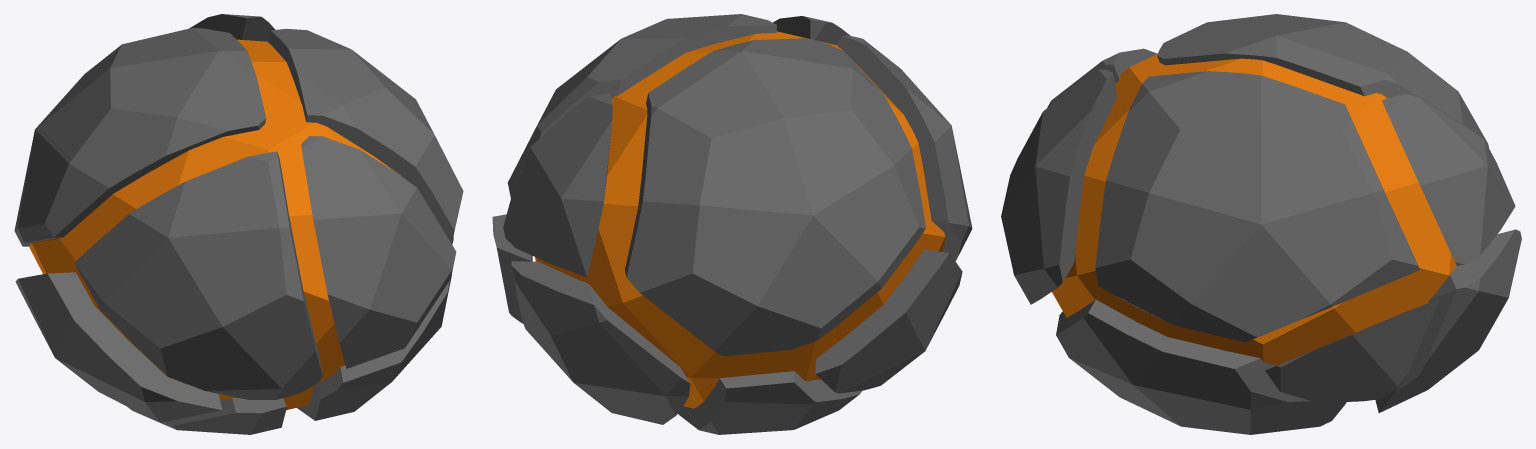
The model's file is AsteroidPoint.fbx.
3 views of the same model, side by side, from view 1: azimuth 30°, elevation 25°; view 2: azimuth 150°, elevation 25°; view 3: azimuth 270°, elevation 25° (orthographic). The views are drawn at different scales.
Parts seen in each view (by area): view 1: Icosphere_cell.002, Icosphere_cell.008, Icosphere_cell.006, Icosphere, Icosphere_cell.010, Icosphere_cell.003, Icosphere_cell.001, Icosphere_cell, Icosphere_cell.009; view 2: Icosphere_cell.008, Icosphere, Icosphere_cell.004, Icosphere_cell.009, Icosphere_cell.003, Icosphere_cell.010, Icosphere_cell.002, Icosphere_cell, Icosphere_cell.005, Icosphere_cell.006; view 3: Icosphere_cell.010, Icosphere, Icosphere_cell.001, Icosphere_cell.006, Icosphere_cell.008, Icosphere_cell.009, Icosphere_cell.004, Icosphere_cell.005, Icosphere_cell.002.
Part boxes in pixels (<box>): Icosphere_cell.002: <box>74,151,322,399</box>; Icosphere_cell.008: <box>14,27,265,246</box>; Icosphere_cell.006: <box>301,136,456,368</box>; Icosphere: <box>29,39,400,409</box>; Icosphere_cell.010: <box>268,28,463,244</box>; Icosphere_cell.003: <box>15,272,222,422</box>; Icosphere_cell.001: <box>297,274,451,420</box>; Icosphere_cell: <box>128,398,286,434</box>; Icosphere_cell.009: <box>189,14,275,41</box>; Icosphere_cell.008: <box>625,38,925,355</box>; Icosphere: <box>535,31,945,408</box>; Icosphere_cell.004: <box>511,261,690,424</box>; Icosphere_cell.009: <box>503,93,612,277</box>; Icosphere_cell.003: <box>815,249,962,393</box>; Icosphere_cell.010: <box>507,14,776,197</box>; Icosphere_cell.002: <box>836,35,972,261</box>; Icosphere_cell: <box>678,371,861,434</box>; Icosphere_cell.005: <box>492,214,532,323</box>; Icosphere_cell.006: <box>773,16,849,44</box>; Icosphere_cell.010: <box>1095,71,1419,342</box>; Icosphere: <box>1052,54,1456,365</box>; Icosphere_cell.001: <box>1056,299,1346,434</box>; Icosphere_cell.006: <box>1001,69,1116,304</box>; Icosphere_cell.008: <box>1157,14,1489,148</box>; Icosphere_cell.009: <box>1382,94,1515,265</box>; Icosphere_cell.004: <box>1375,229,1521,412</box>; Icosphere_cell.005: <box>1265,298,1439,403</box>; Icosphere_cell.002: <box>1047,48,1157,107</box>.
Size of the model in its own units: 1.45 by 1.22 by 1.56.
